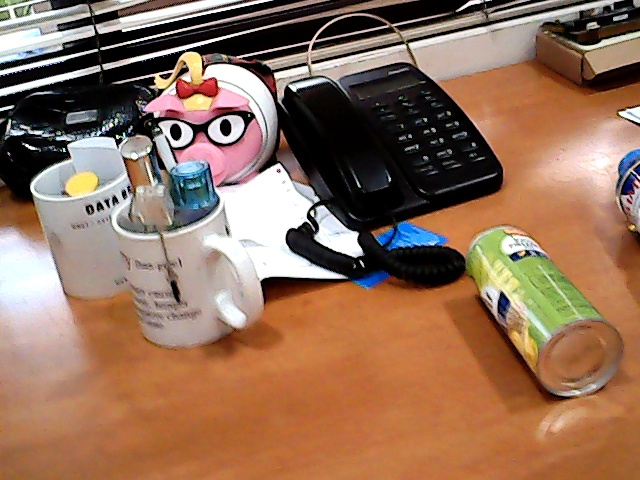Pine Juice: (440, 203, 634, 410)
